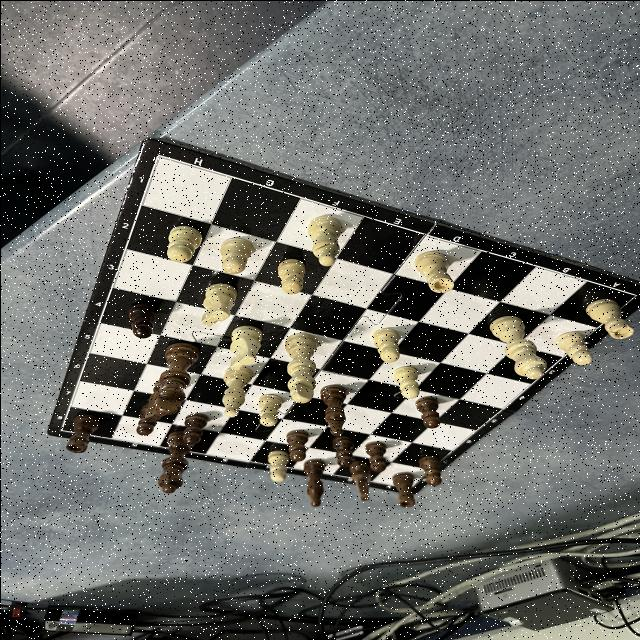Black-Bishop: (320, 384, 346, 434), (304, 458, 324, 506)
Black-King: (154, 342, 198, 414)
Black-Knight: (349, 459, 372, 500)
Black-Pawn: (128, 304, 156, 338), (182, 413, 208, 445), (414, 396, 438, 428), (136, 403, 157, 435), (286, 430, 308, 460), (364, 442, 386, 472), (332, 434, 352, 466), (420, 454, 440, 486)
Black-Queen: (158, 431, 190, 493)
Black-Rook: (66, 413, 98, 453), (392, 471, 413, 507)
White-Bishop: (306, 216, 342, 266), (221, 367, 251, 416)
White-King: (286, 333, 316, 403)
White-Knight: (200, 282, 237, 326), (228, 324, 262, 370)
White-Pawn: (165, 226, 201, 262), (556, 332, 592, 366), (220, 236, 252, 272), (276, 258, 304, 294), (372, 327, 399, 362), (392, 364, 418, 398), (258, 392, 280, 427), (266, 449, 288, 482)
White-Queen: (488, 314, 546, 379)
White-Rook: (584, 299, 633, 338), (414, 252, 454, 294)
